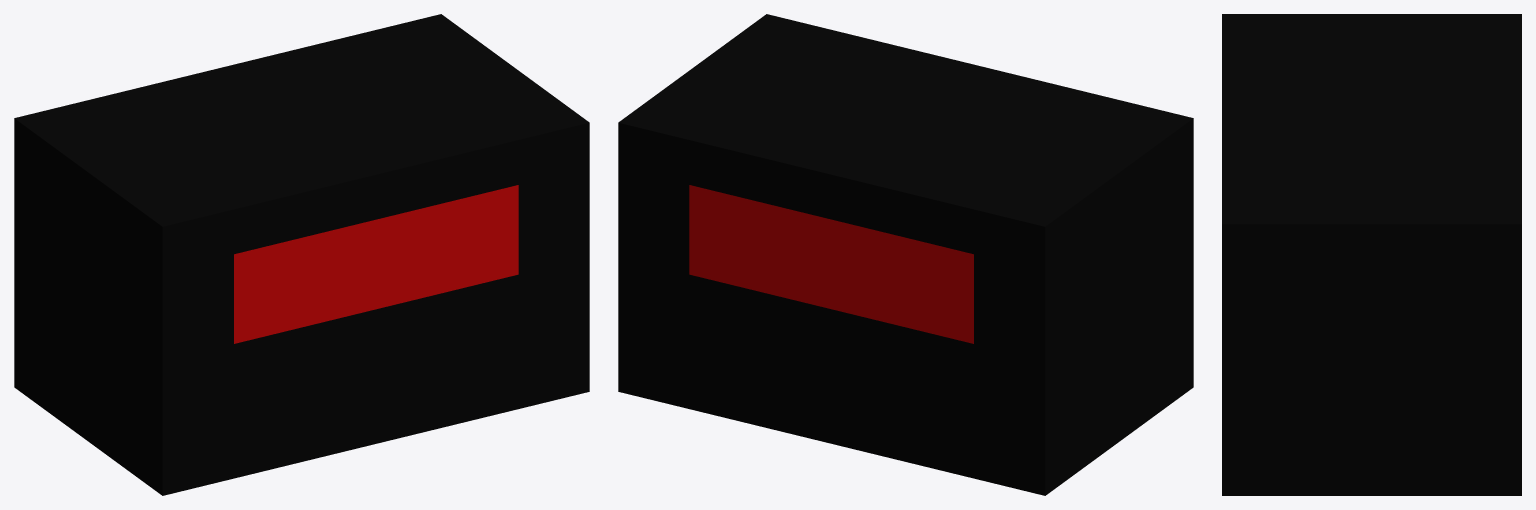
Rendered from Box with patrons.fbx.
3 views of the same model, side by side, from view 1: azimuth 30°, elevation 25°; view 2: azimuth 150°, elevation 25°; view 3: azimuth 270°, elevation 25° (orthographic).
Visible parts, largest first — view 1: Куб; view 2: Куб; view 3: Куб.
Part boxes in pixels (x1=…): Куб: x1=14, y1=14, x2=589, y2=495; Куб: x1=618, y1=14, x2=1193, y2=495; Куб: x1=1222, y1=14, x2=1521, y2=495.
Size of the model in its own units: 332 by 200 by 200.
